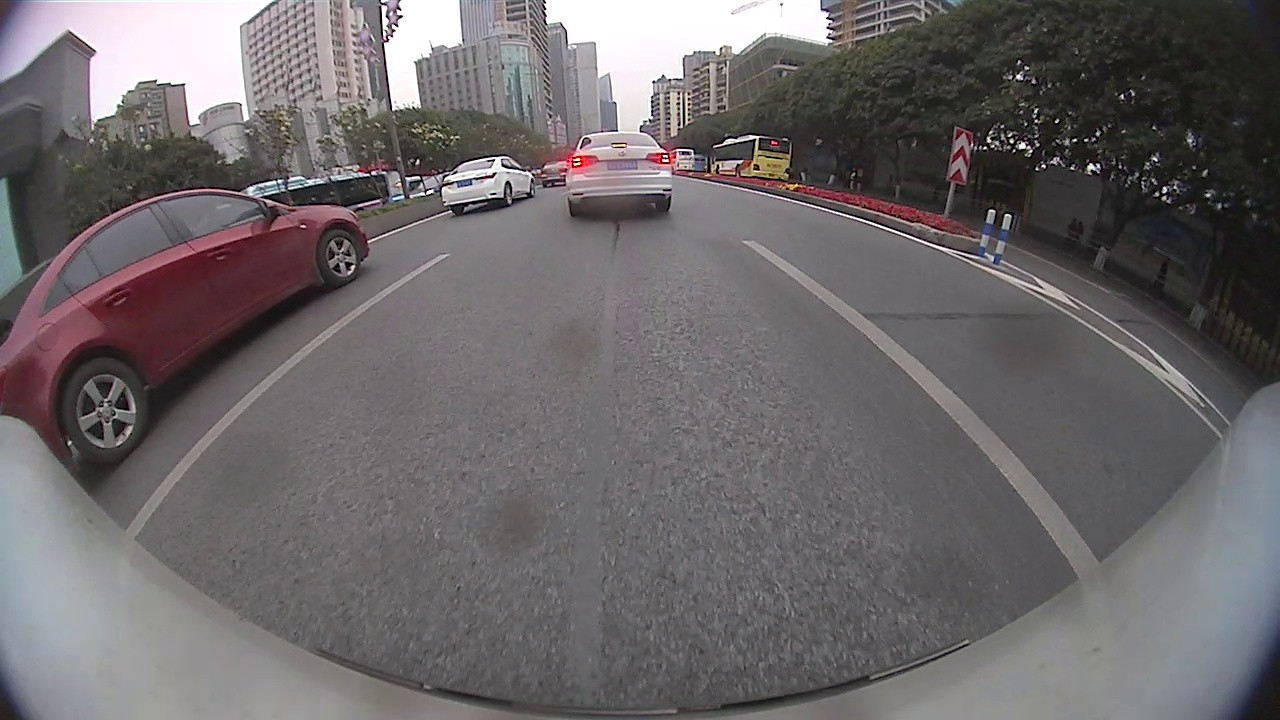bus: (242, 167, 394, 209), (708, 134, 793, 178), (667, 144, 695, 172)
car: (1, 187, 371, 463), (567, 129, 670, 214), (441, 154, 536, 215), (538, 162, 568, 189)
front: (320, 230, 362, 285)
rear: (61, 360, 149, 462), (505, 181, 514, 205)
